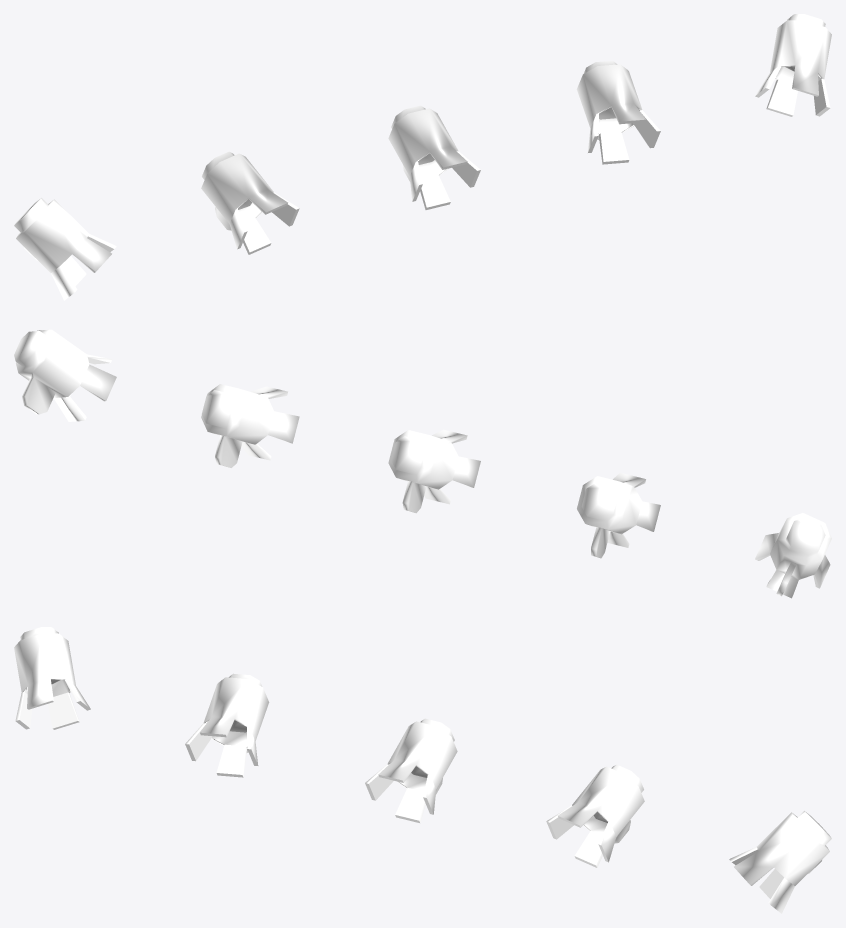
The model's file is LightingArraySpotlightsLightOn.glb.
The picture shows the model from 3 angles, top to bottom: view 1: azimuth 30°, elevation 25°; view 2: azimuth 150°, elevation 25°; view 3: azimuth 330°, elevation 25°; orthographic projection.
Parts seen in each view (by area): view 1: LightingArraySpotlightsLightOn; view 2: LightingArraySpotlightsLightOn; view 3: LightingArraySpotlightsLightOn.
Boxes of the visible parts, x1,y1,x2,y2 form: LightingArraySpotlightsLightOn: (14,14,831,300); LightingArraySpotlightsLightOn: (14,329,831,598); LightingArraySpotlightsLightOn: (14,627,831,913).
Size of the model in its own units: 13.19 by 1.44 by 1.53.
1 material, 1 textured.
